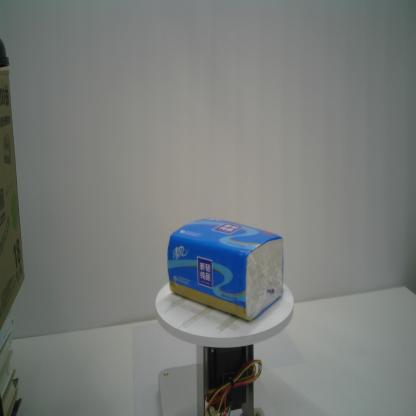Tissue: (167, 219, 284, 322)
